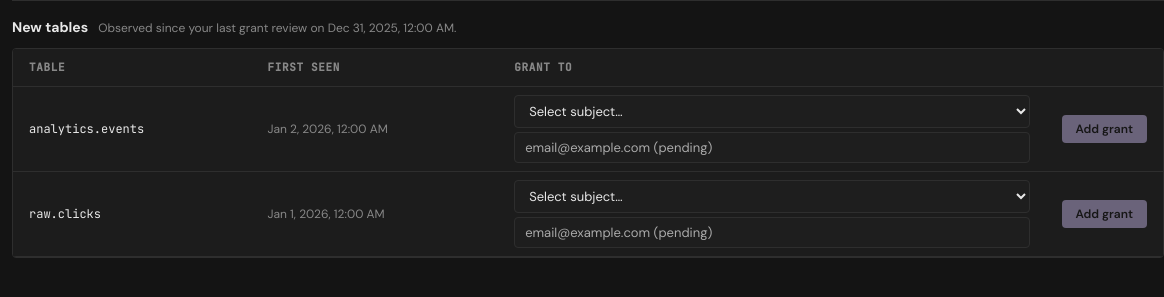
Test: pending grants › disables add and warns when the pending email is invalid
Expected: the text "analytics.events" is shown, [29,121,144,137]
Select "Everyone" in the dropdown named "Subject for analytics.events" at (772, 111), box [514,94,1030,128]
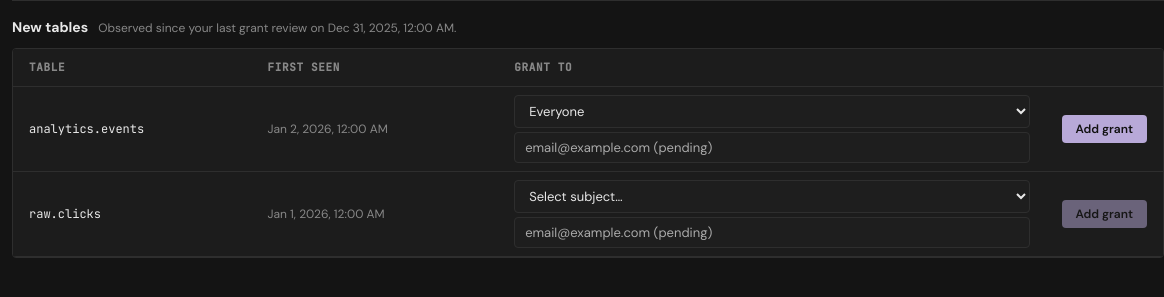
Type "not-an-email" into the field named "Pending email for analytics.events" at (772, 147), box [514,132,1030,162]
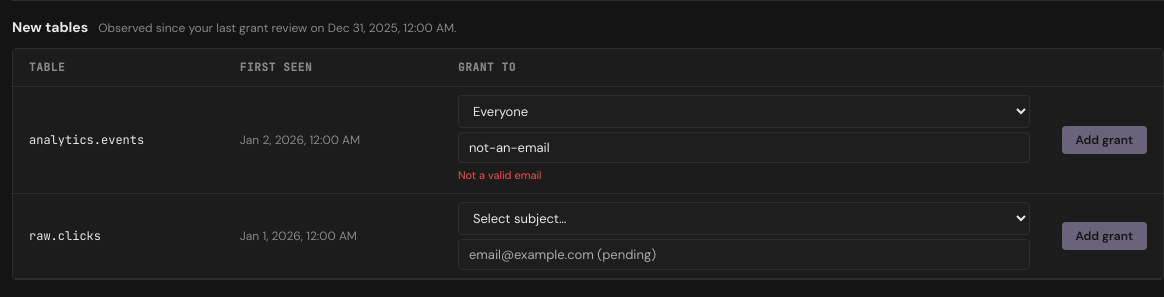
Expected: the dropdown named "Subject for analytics.events" is enabled, [458,94,1030,128]
Now the text "Not a valid email" is shown, box [458,166,542,183]
Now the button with aria-label "Add grant for analytics.events" is disabled, box [1062,126,1147,154]
